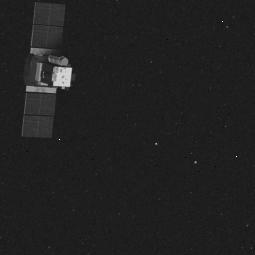soho: (22, 0, 78, 140)
